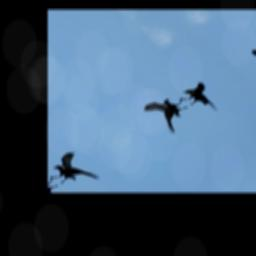Crow: (140, 88, 204, 136)
